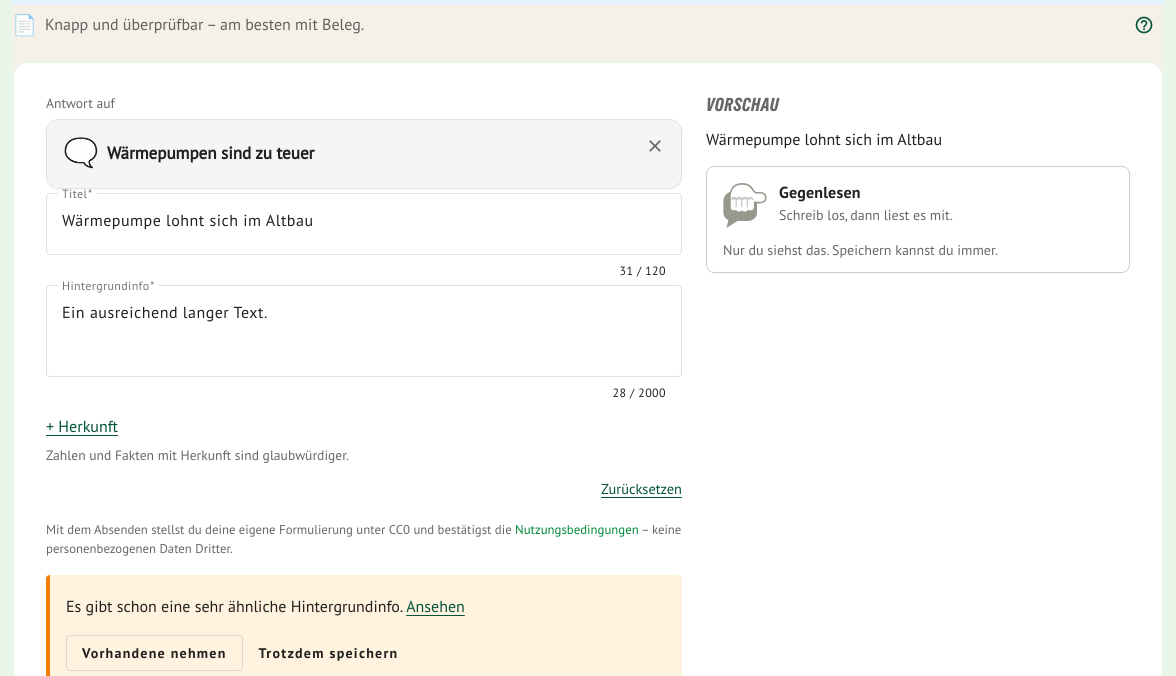
Test: AddGenerictextComponent › Dublette › Nehmen mit Aussage: schickt vorhanden_nehmen und meldet die vorhandene, jetzt verknuepft
The width and height of the screenshot is (1176, 676).
Click the button with class "dublette-nehmen": point(154, 653) top-left (66, 635), bottom-right (243, 671)
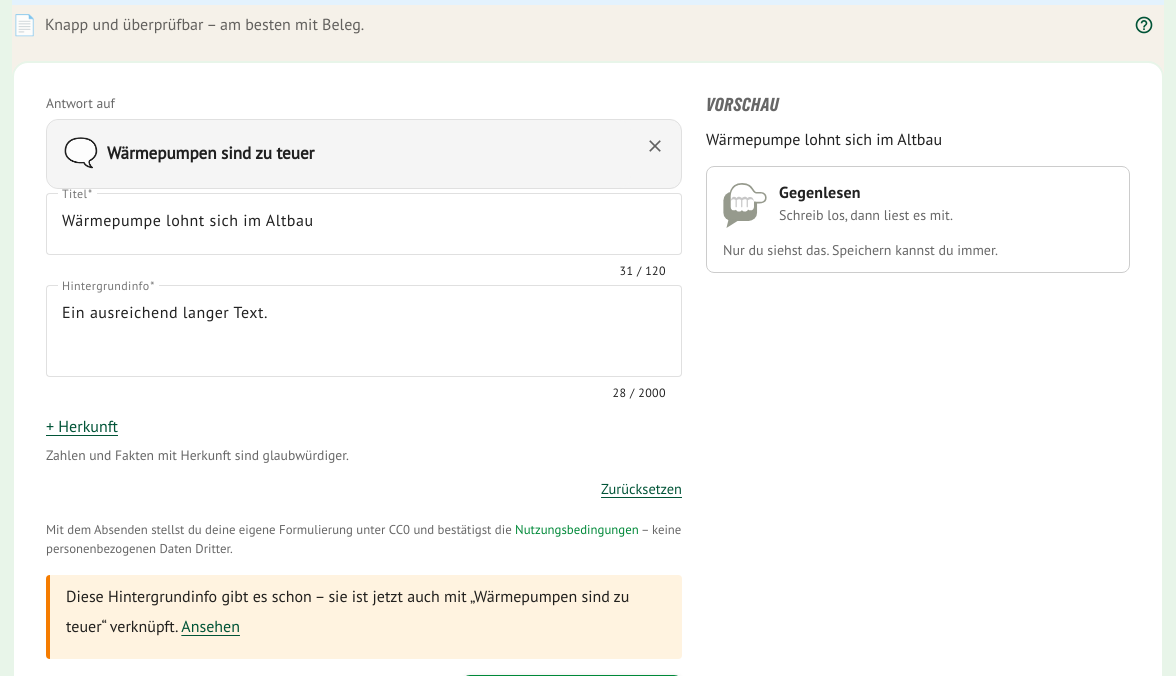
Now the element with class "dubletten-hinweis" shows "Diese Hintergrundinfo gibt es schon – sie ist jetzt auch mit „Wärmepumpen sind zu teuer“ verknüpft.", box top-left (66, 588), bottom-right (629, 636)
Now the button with class "dublette-nehmen" is gone
Now the button with class "dublette-trotzdem" is gone
